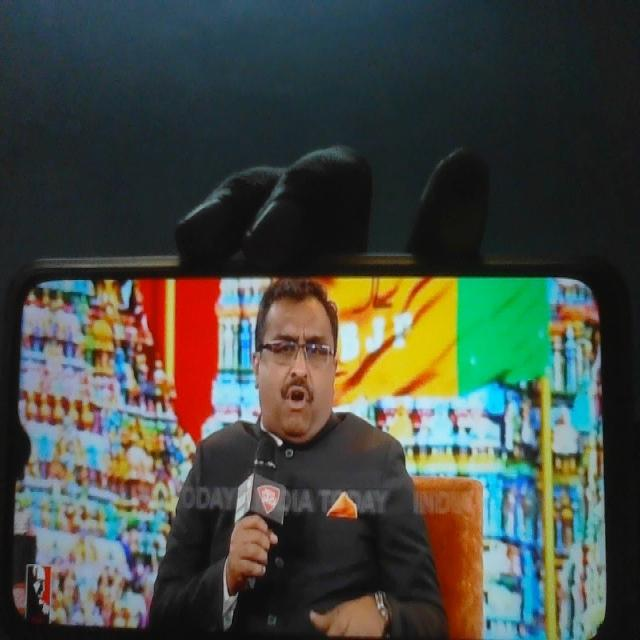fake: (247, 255, 350, 449)
